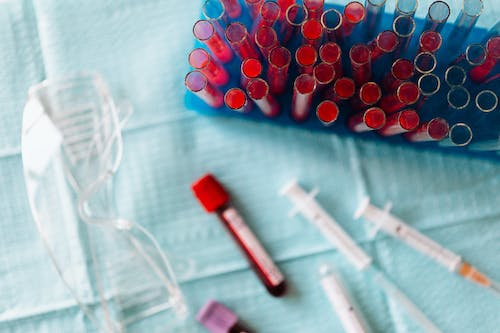blood: (215, 199, 289, 297), (191, 18, 234, 64), (188, 46, 230, 87), (183, 70, 225, 109), (224, 21, 260, 64), (469, 36, 500, 81), (246, 78, 279, 118), (266, 45, 292, 94), (381, 81, 420, 112), (377, 108, 420, 136), (291, 73, 317, 118), (408, 116, 451, 142), (339, 0, 366, 40), (251, 0, 282, 33), (366, 30, 399, 59), (348, 107, 386, 132), (349, 44, 372, 83), (318, 40, 342, 76), (224, 87, 253, 116), (255, 24, 279, 58), (329, 76, 357, 104), (315, 99, 340, 128), (239, 57, 263, 87), (294, 43, 318, 73), (357, 81, 382, 108), (385, 58, 414, 81), (314, 60, 336, 89), (419, 30, 442, 55), (300, 19, 323, 43), (301, 0, 325, 19), (276, 0, 296, 21), (244, 0, 266, 18), (220, 0, 242, 17), (228, 323, 258, 333)
